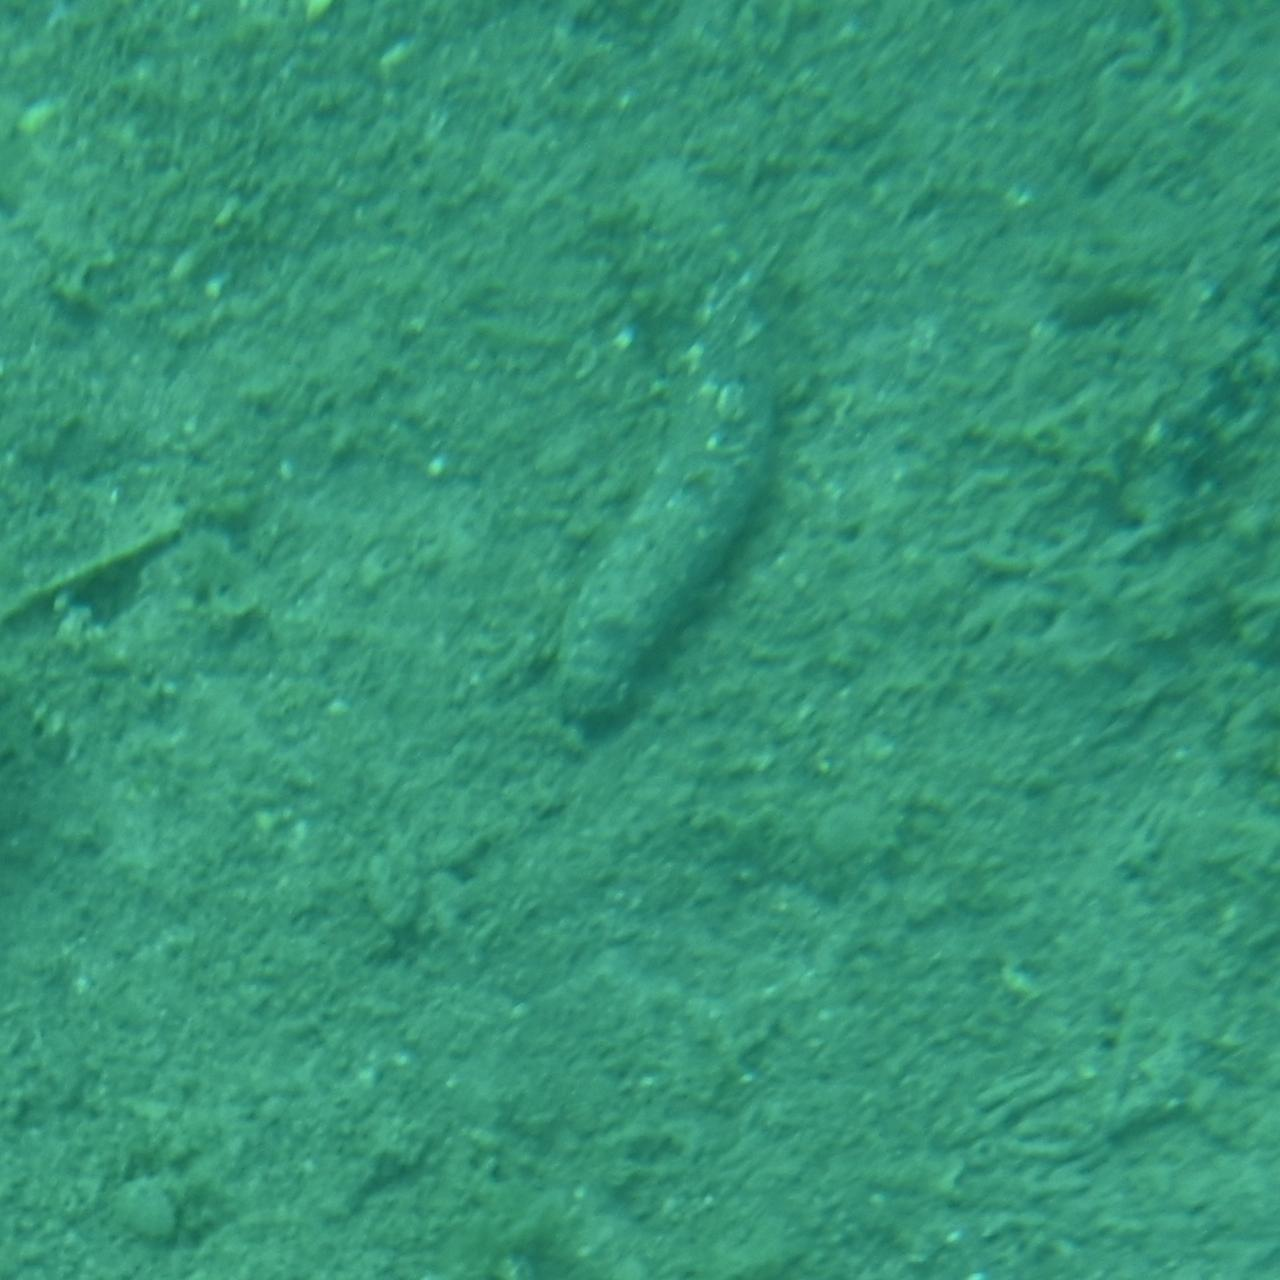Holothuria tubulosa: (512, 146, 768, 746)
